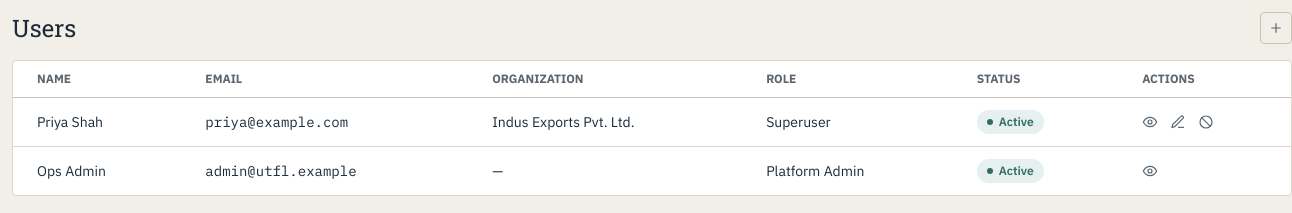
Test: AdminUsersPage › deactivating a user › deactivates an active user after confirming
Expected: the text "Priya Shah" is shown, top-left (13, 98), bottom-right (181, 146)
Click the button named "deactivate priya shah": (1206,122) top-left (1198, 114), bottom-right (1214, 130)
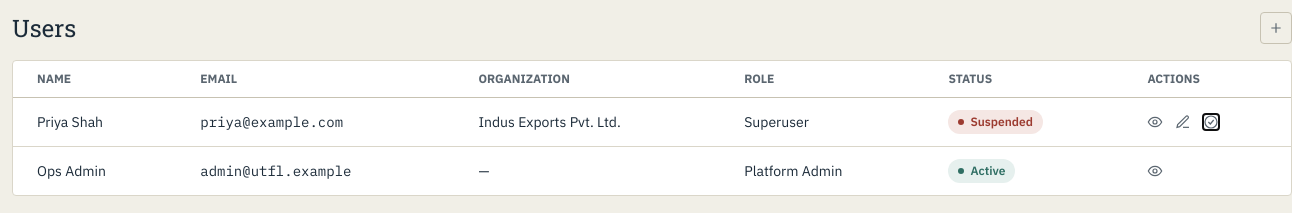
Result: the button named "reactivate priya shah" is shown at top-left (1203, 114), bottom-right (1219, 130)
